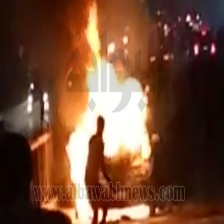fire: (59, 15, 156, 217)
